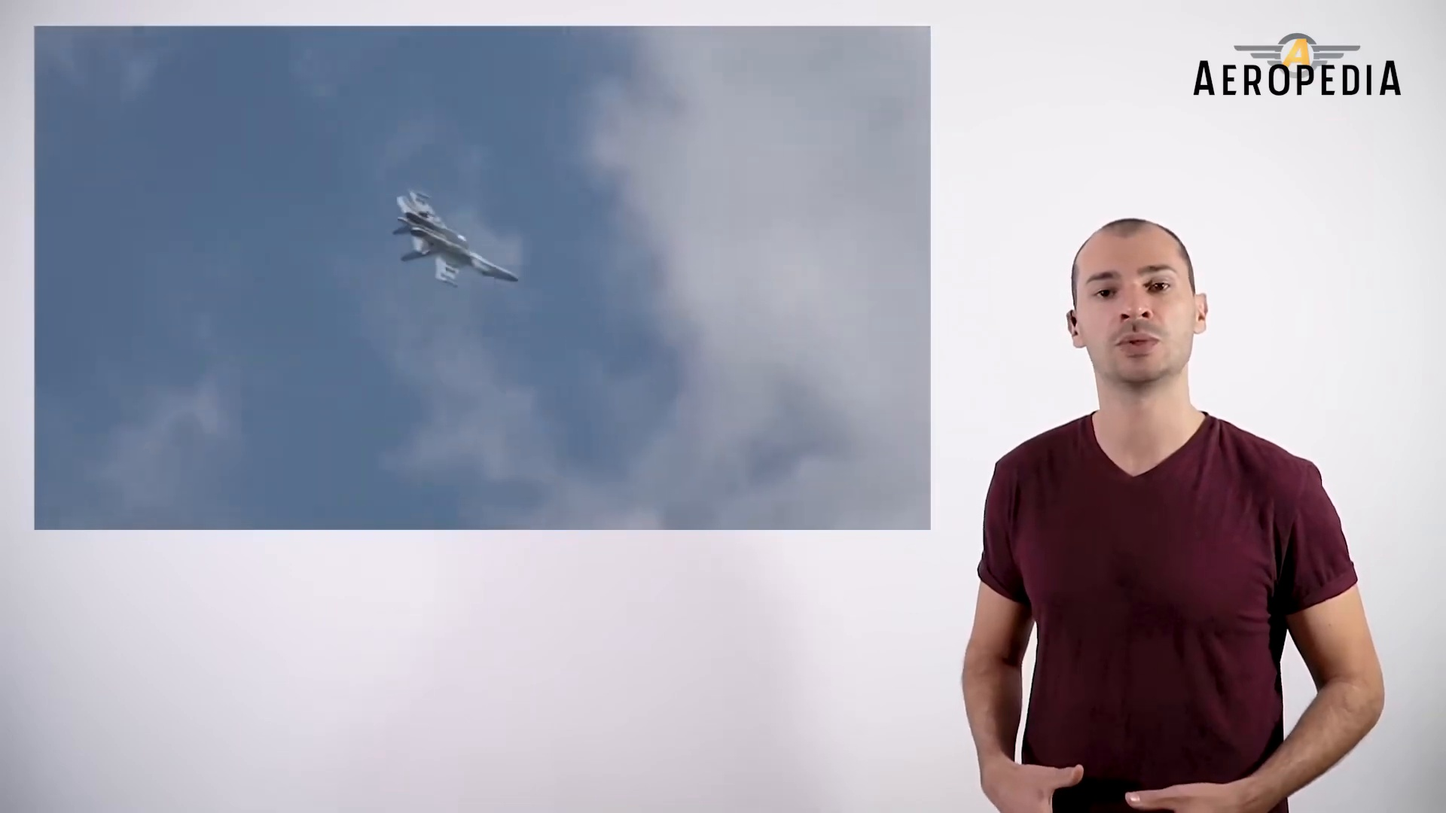Su35: (392, 187, 521, 289)
